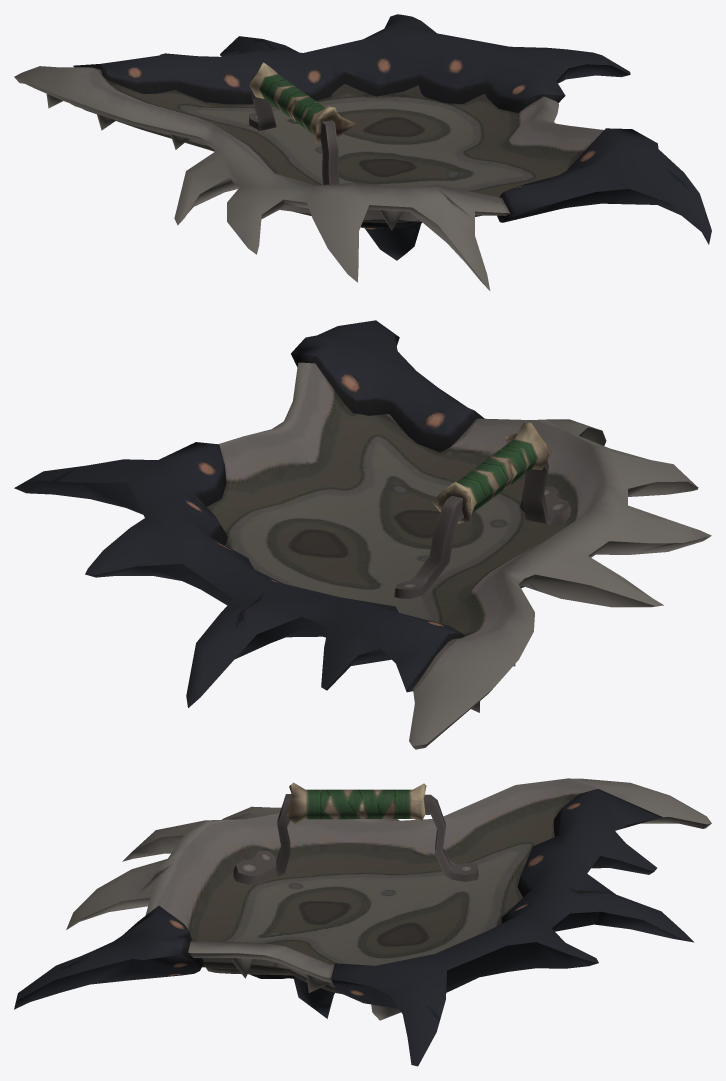
The model's file is Weapon_Shield_009.glb.
3 views of the same model, one above another, from view 1: azimuth 30°, elevation 25°; view 2: azimuth 150°, elevation 25°; view 3: azimuth 270°, elevation 25° (orthographic). The views are drawn at different scales.
Visible parts, largest first — view 1: Weapon_Shield_009; view 2: Weapon_Shield_009; view 3: Weapon_Shield_009.
Part boxes in pixels (x1,y1,x2,y2): Weapon_Shield_009: [14, 14, 711, 290]; Weapon_Shield_009: [14, 320, 711, 749]; Weapon_Shield_009: [14, 778, 711, 1066].
Bounding box in the file's own units: 0.7716 × 0.2789 × 0.9109.
1 material, 1 textured.
